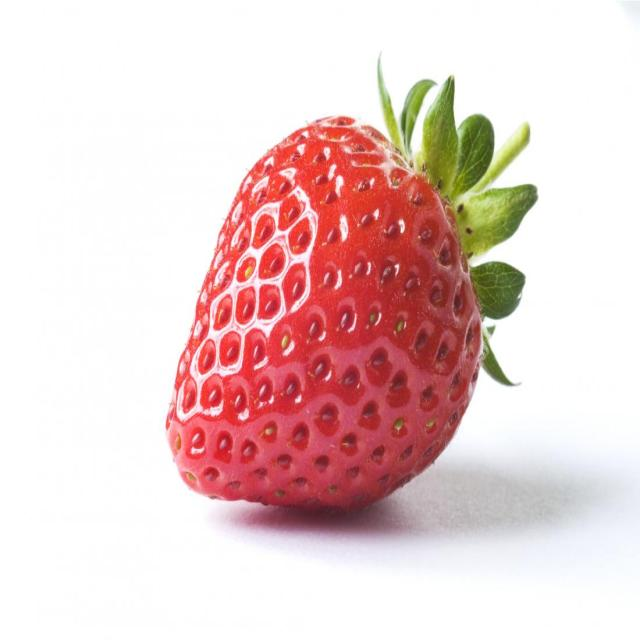strawberry: (150, 75, 544, 517)
